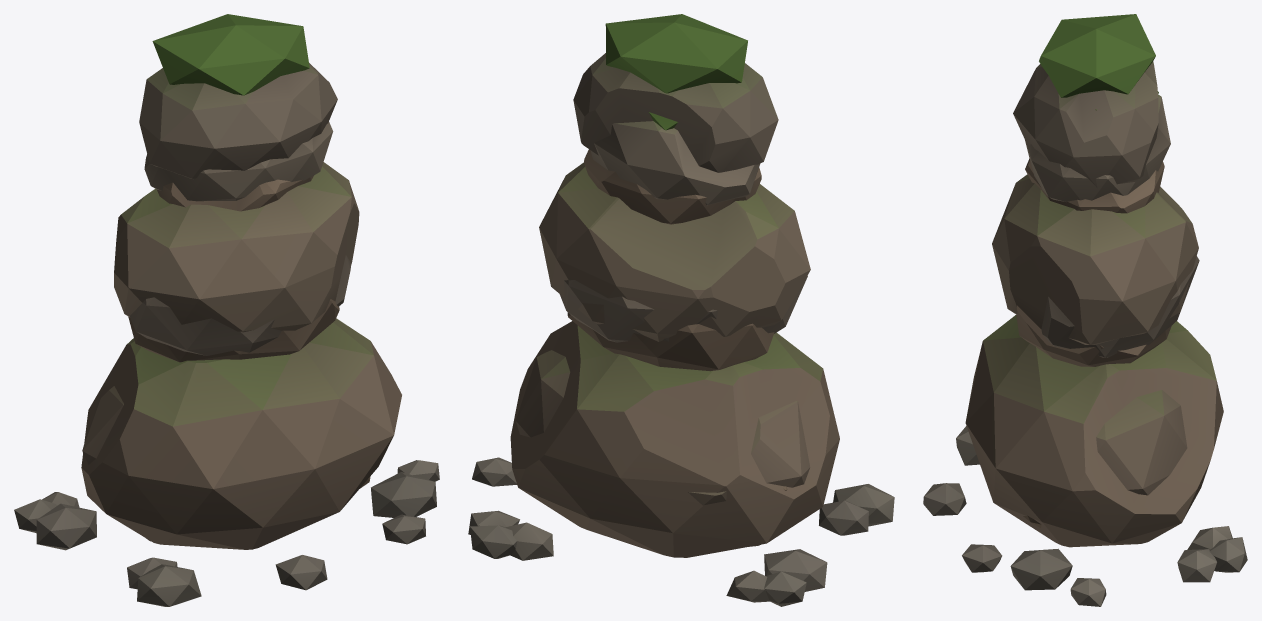
The model's file is cairn.glb.
3 views of the same model, side by side, from view 1: azimuth 30°, elevation 25°; view 2: azimuth 150°, elevation 25°; view 3: azimuth 270°, elevation 25° (orthographic). The views are drawn at different scales.
Parts seen in each view (by area): view 1: cairn-2, cairn-1, cairn-0; view 2: cairn-2, cairn-1, cairn-0; view 3: cairn-2, cairn-1, cairn-0.
Boxes of the visible parts, box(x1,y1,x2,y2) form: cairn-2: box(14, 14, 439, 606); cairn-1: box(42, 122, 425, 590); cairn-0: box(36, 175, 436, 589); cairn-2: box(470, 14, 894, 606); cairn-1: box(468, 112, 810, 602); cairn-0: box(505, 149, 868, 591); cairn-2: box(956, 14, 1247, 606); cairn-1: box(923, 91, 1216, 582); cairn-0: box(1010, 158, 1232, 590).
Size of the model in its own units: 1.3 by 1.69 by 1.
